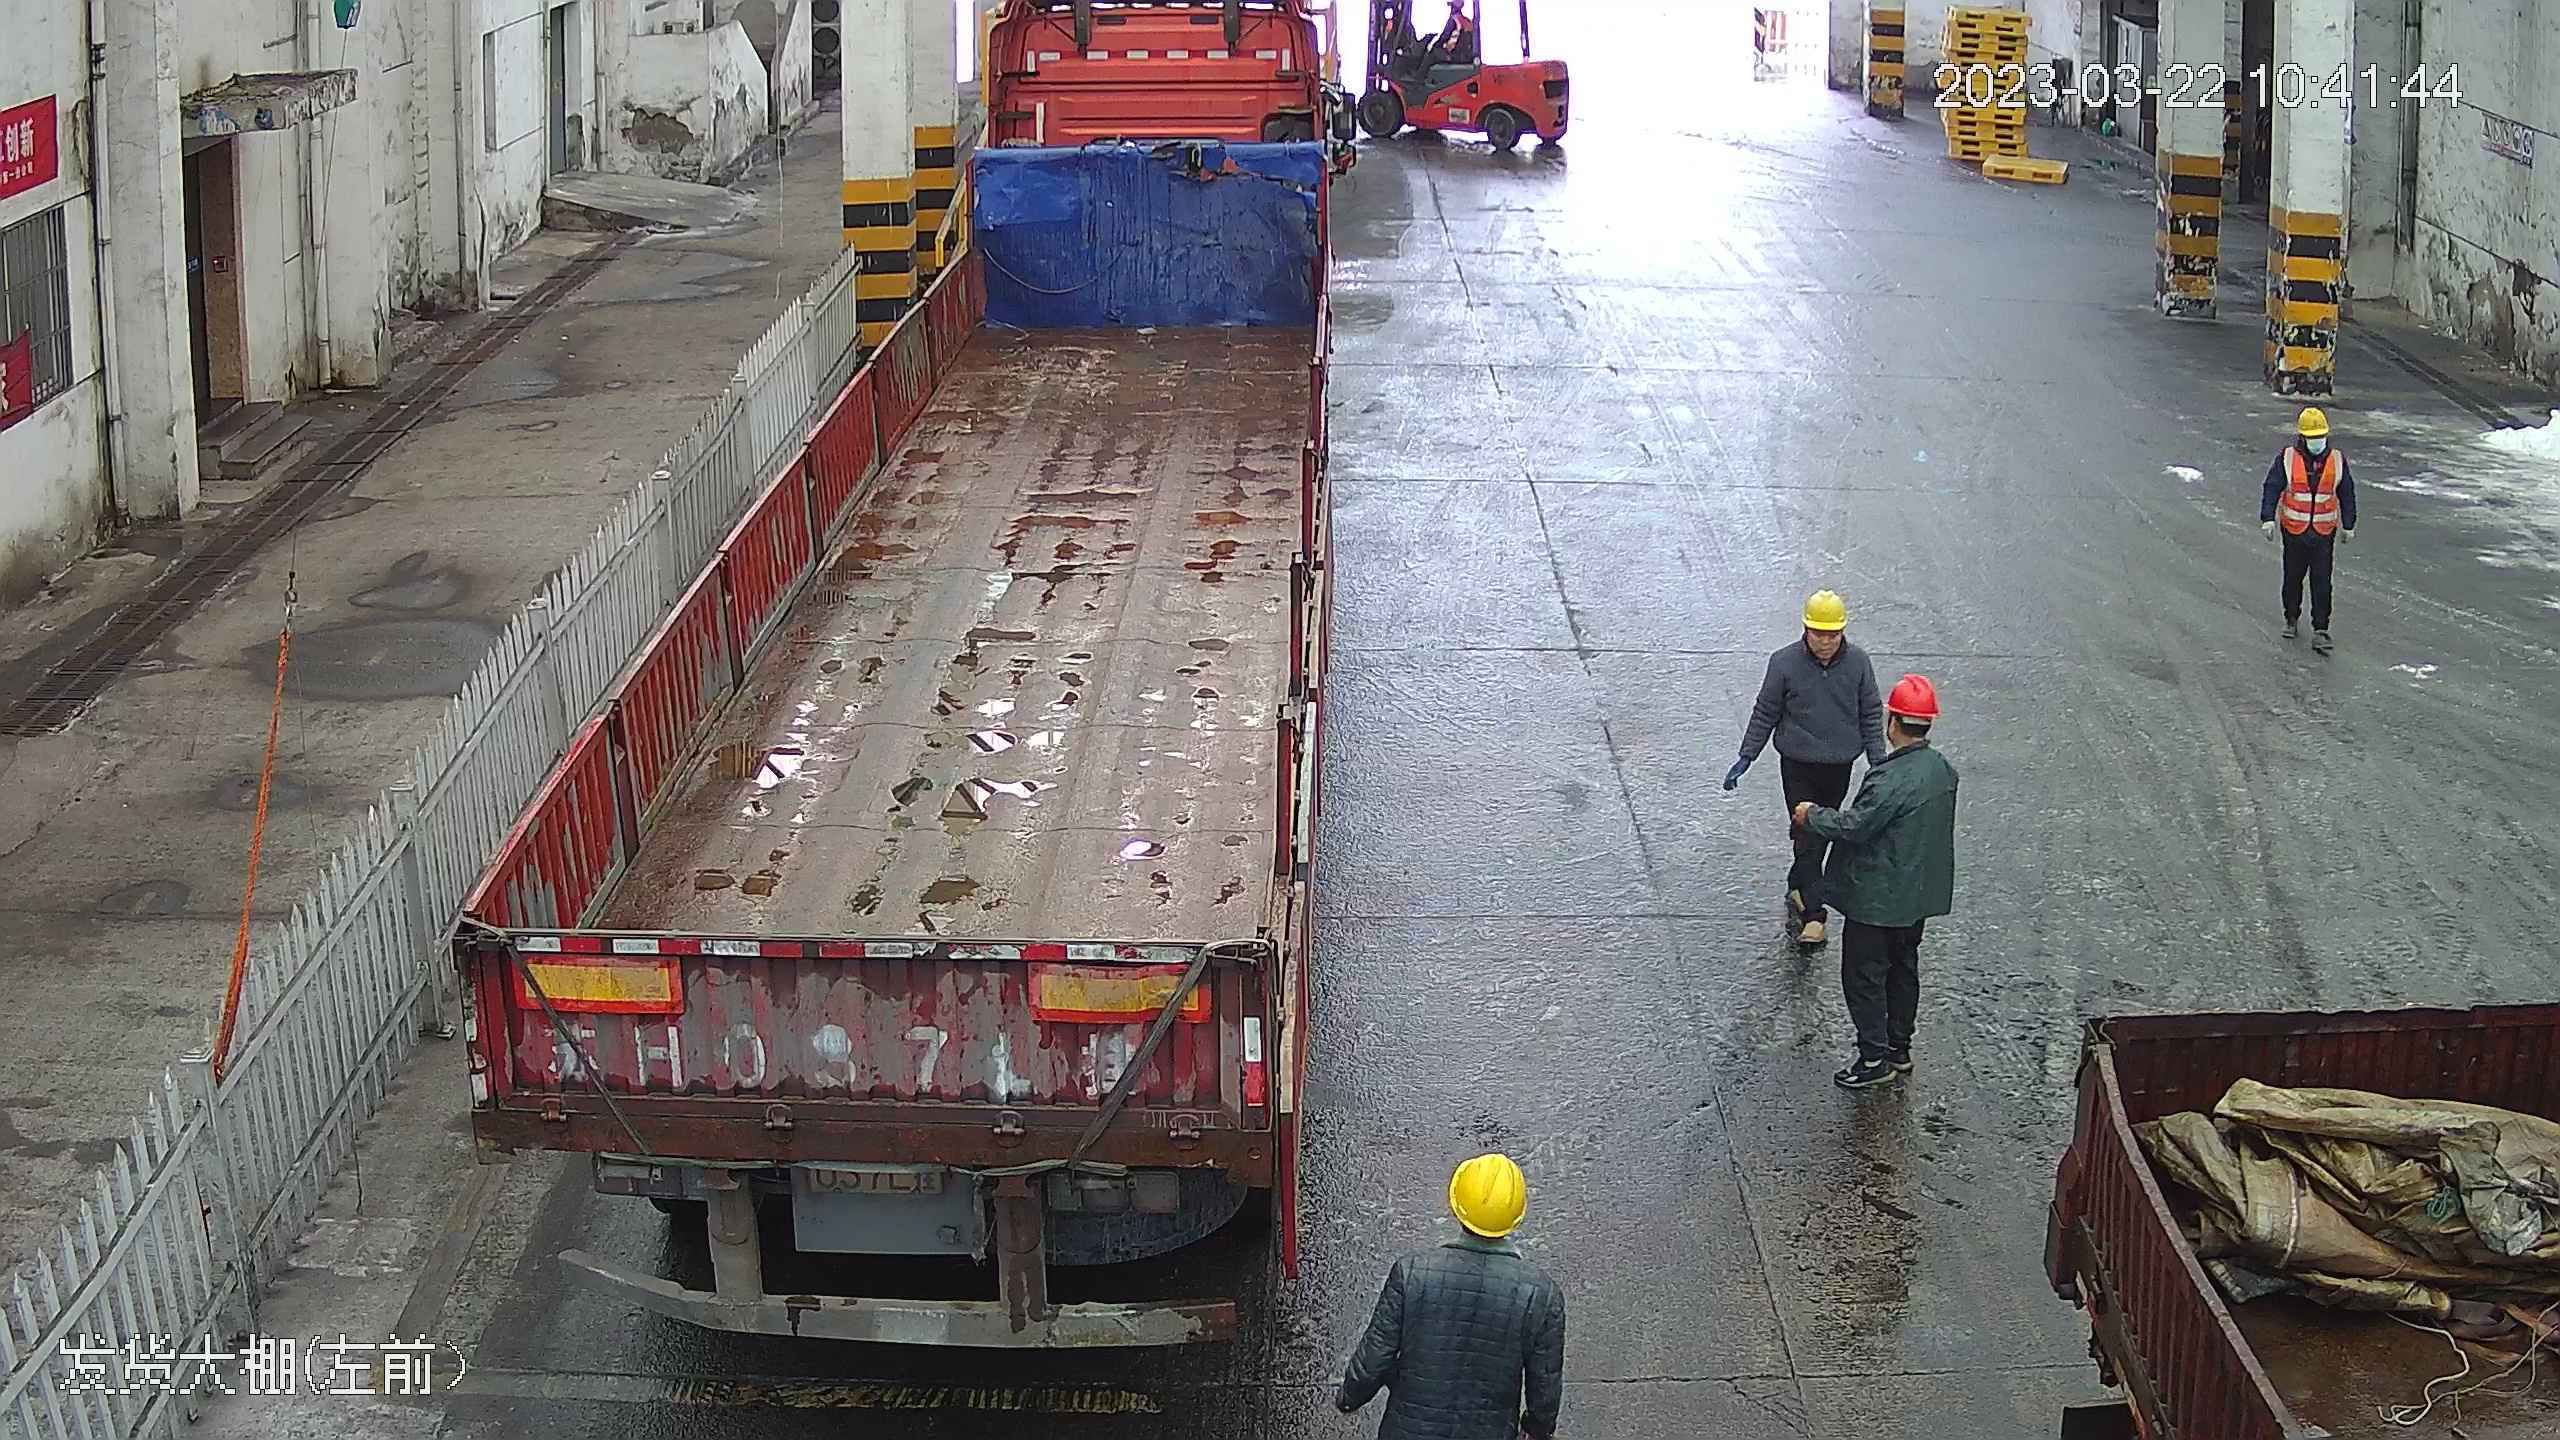head: (1388, 1151, 1562, 1322), (1840, 672, 1960, 813), (1762, 588, 1875, 697), (2272, 404, 2350, 485)
helmet: (1446, 1151, 1529, 1238), (1884, 672, 1942, 718), (1799, 588, 1851, 630), (2296, 403, 2331, 437)
people: (1339, 1145, 1567, 1440), (1807, 672, 1959, 1106), (1730, 576, 1881, 965), (2261, 400, 2356, 654), (1391, 0, 1479, 69)
truck: (427, 0, 1390, 1359), (2034, 982, 2558, 1440)
